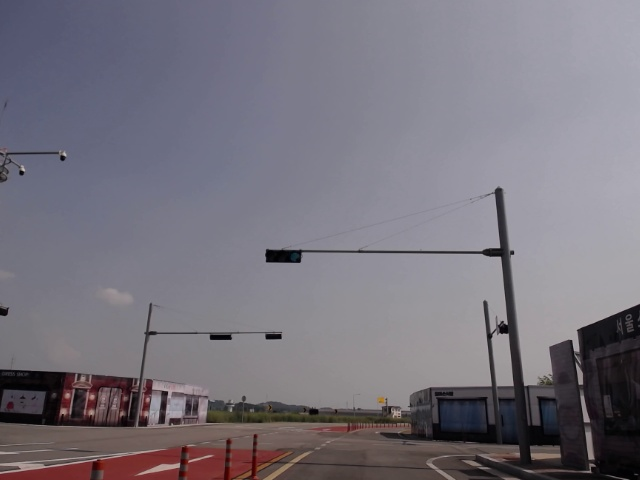green_3: (266, 250, 302, 262)
